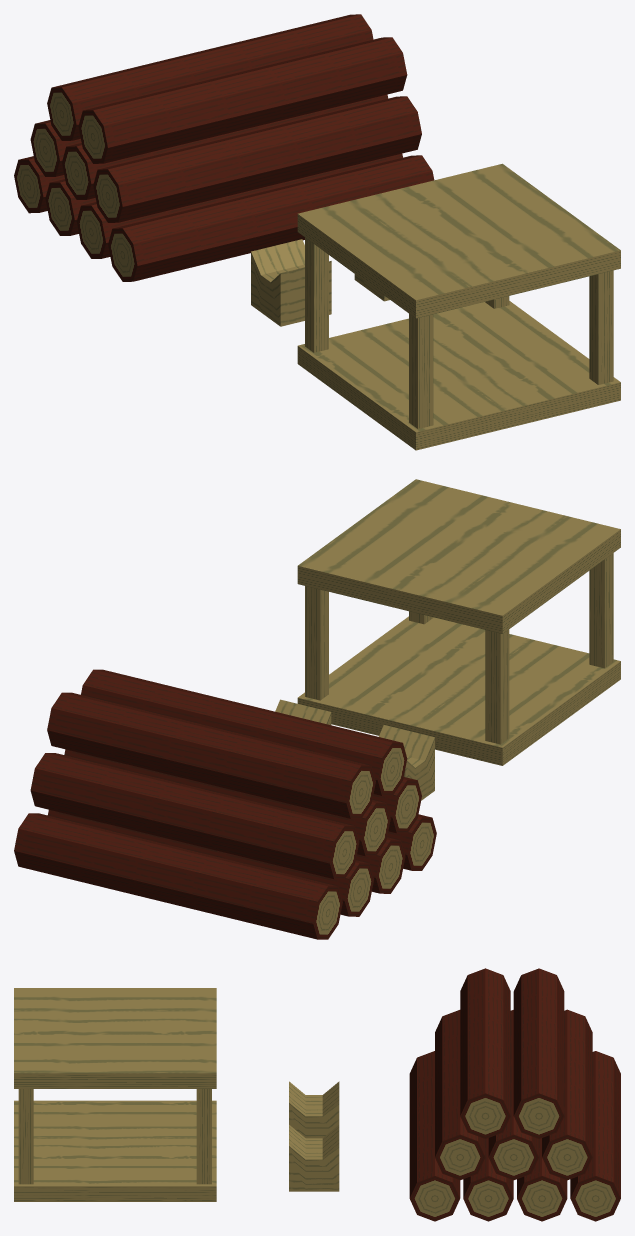
File: Sawmill.fbx
The picture shows the model from 3 angles, top to bottom: view 1: azimuth 30°, elevation 25°; view 2: azimuth 150°, elevation 25°; view 3: azimuth 270°, elevation 25°; orthographic projection. The views are drawn at different scales.
Parts seen in each view (by area): view 1: Cylinder.006, Cube.024, Cube.022, Cube.023, Cube.025; view 2: Cylinder.006, Cube.024, Cube.022, Cube.023, Cube.025; view 3: Cylinder.006, Cube.024, Cube.022, Cube.025, Cube.023.
Part boxes in pixels (bbox=[...]): Cylinder.006: bbox=[14, 14, 434, 281]; Cube.024: bbox=[297, 163, 620, 318]; Cube.022: bbox=[297, 301, 620, 450]; Cube.023: bbox=[305, 237, 613, 428]; Cube.025: bbox=[251, 239, 389, 326]; Cylinder.006: bbox=[14, 669, 436, 939]; Cube.024: bbox=[297, 479, 620, 633]; Cube.022: bbox=[297, 616, 620, 765]; Cube.023: bbox=[305, 553, 613, 744]; Cube.025: bbox=[275, 699, 434, 800]; Cylinder.006: bbox=[409, 968, 620, 1221]; Cube.024: bbox=[14, 988, 216, 1088]; Cube.022: bbox=[14, 1100, 216, 1201]; Cube.025: bbox=[289, 1081, 339, 1191]; Cube.023: bbox=[18, 1089, 211, 1184].
Size of the model in its own units: 5.85 by 2.8 by 12.01.
